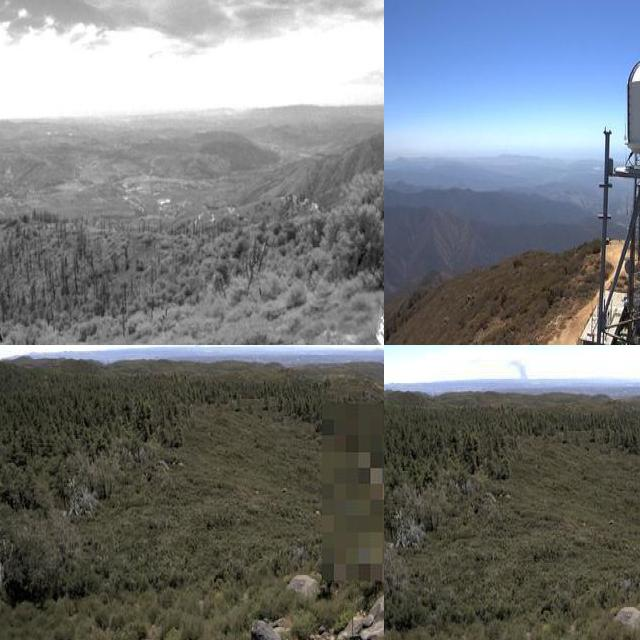smoke: (505, 355, 532, 387)
